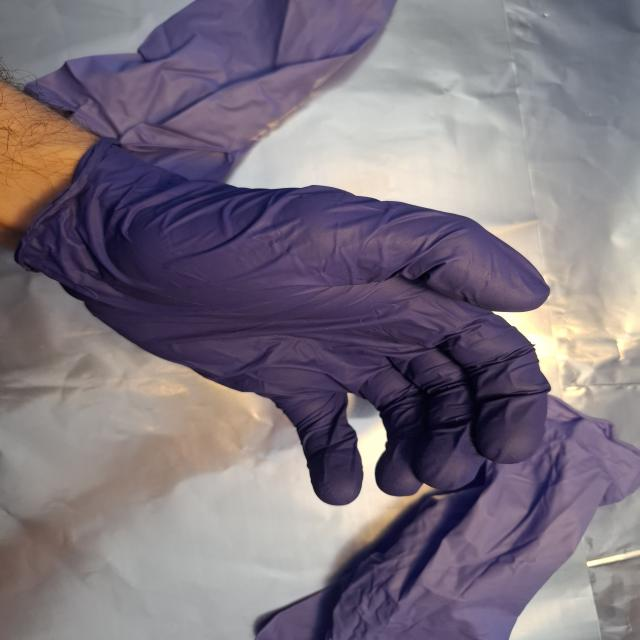glove_on: (11, 137, 557, 509)
